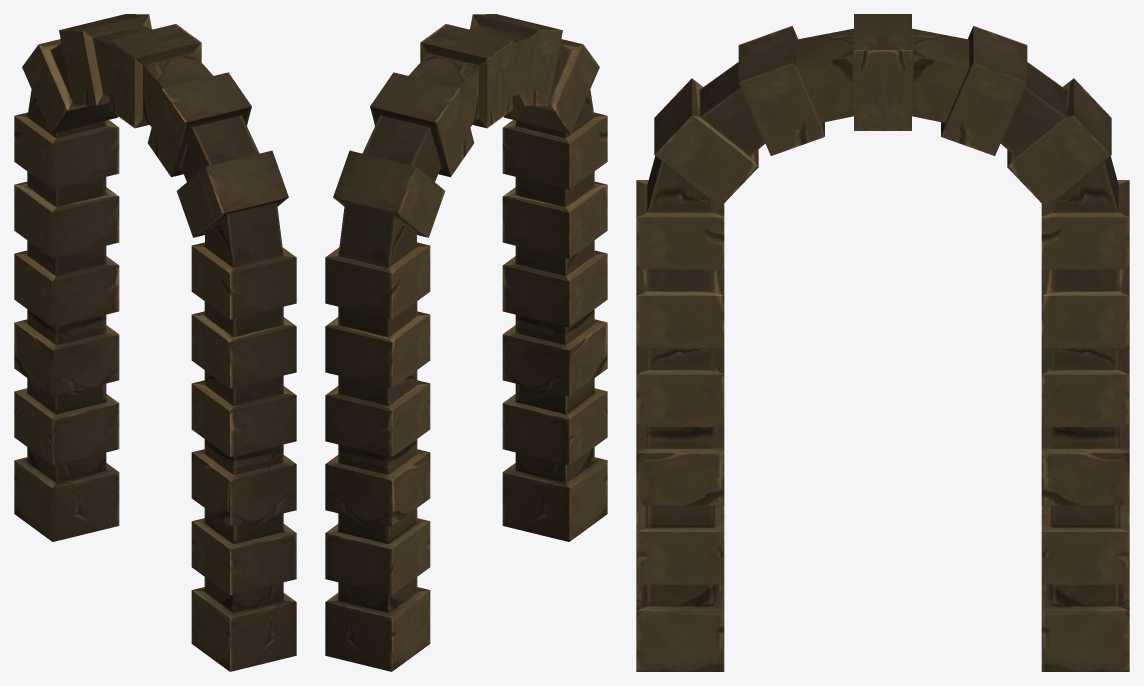
The model's file is Battle04_Cub_01.FBX.
3 views of the same model, side by side, from view 1: azimuth 30°, elevation 25°; view 2: azimuth 150°, elevation 25°; view 3: azimuth 270°, elevation 25° (orthographic). The views are drawn at different scales.
Visible parts, largest first — view 1: Battle04_Cub_01; view 2: Battle04_Cub_01; view 3: Battle04_Cub_01.
Part boxes in pixels (x1=…): Battle04_Cub_01: x1=14, y1=14, x2=296, y2=671; Battle04_Cub_01: x1=325, y1=14, x2=607, y2=671; Battle04_Cub_01: x1=636, y1=14, x2=1129, y2=671.
Bounding box in the file's own units: 1.86 × 14.48 × 10.43.
